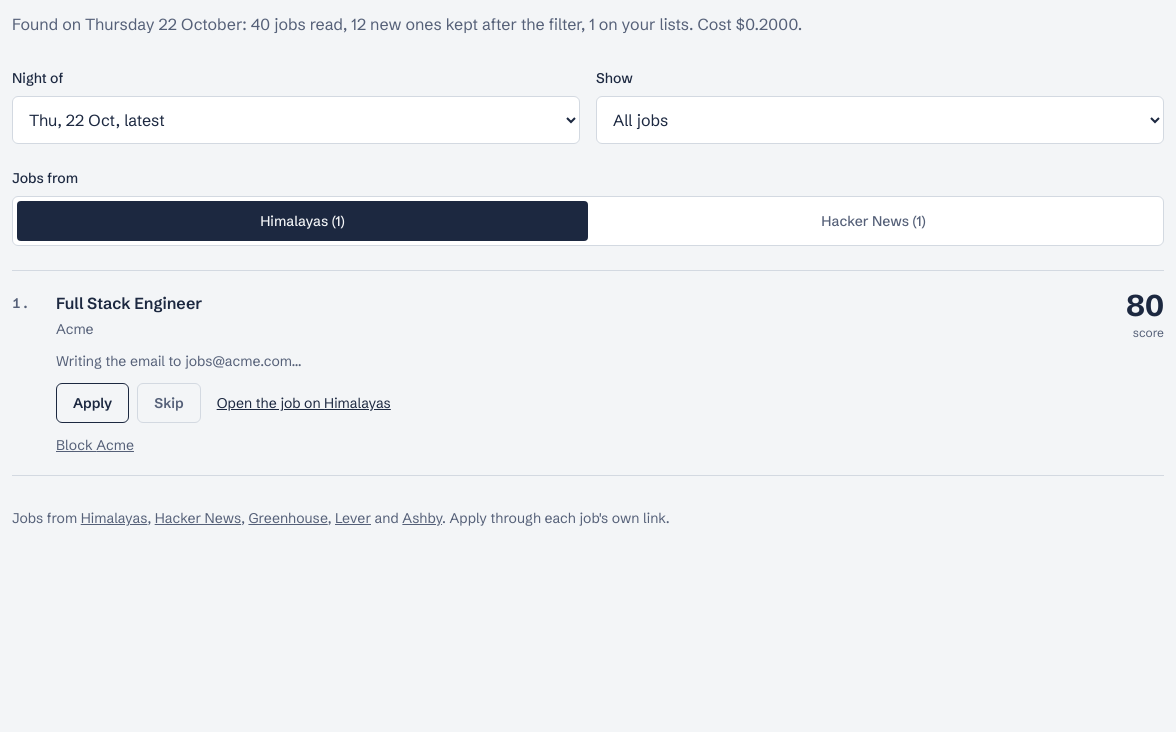
Test: one tab per source, each with its own top jobs and the rest below by score
The width and height of the screenshot is (1176, 732).
Check: the radio button labelled "Himalayas (1)" is checked, box [17,201,588,241]
Check: the heading "Full Stack Engineer" is shown, box [56,293,202,313]
Click the radio button labelled "Hacker News (1)" at (874, 221), box [821,212,926,230]
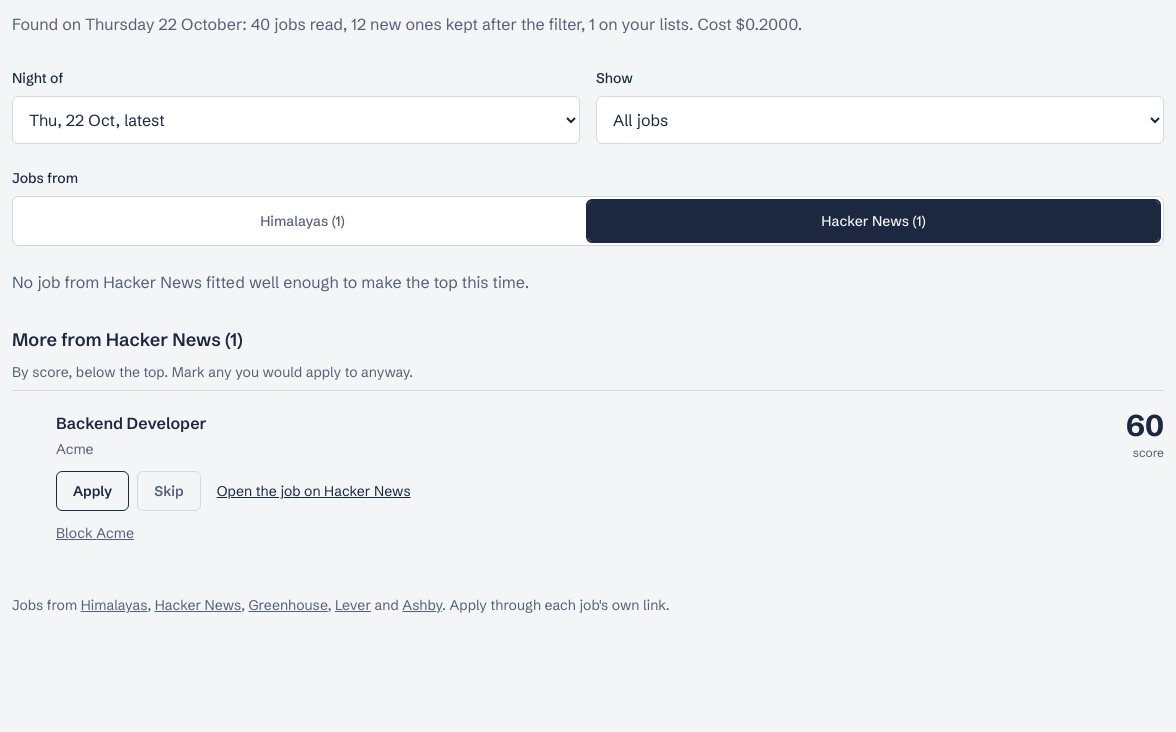
Check: the heading "Backend Developer" is shown, box [56,413,206,433]
Check: the text "No job from Hacker News fitted well enough to make the top this time." is shown, box [12,272,529,292]
Check: the heading "More from Hacker News (1)" is shown, box [12,328,243,351]
